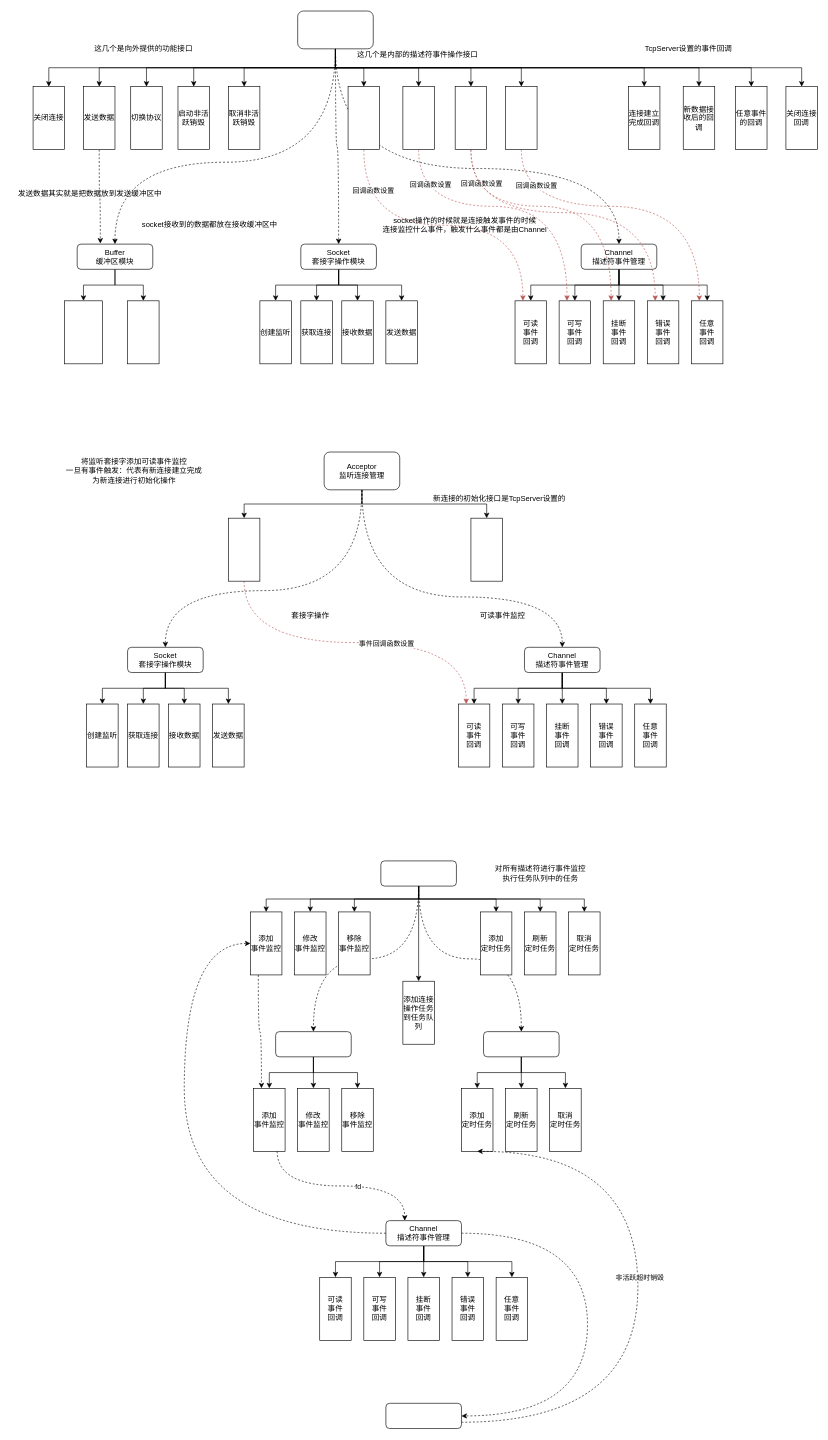
Image size: 828x1440. Some labels were removed from this diagram. Each missing label, with the centre of its shape:
Connection: (423,1416)
Connection 通信连接的管理: (335,29)
EventLoop: (418,873)
Poller 描述符事件监控: (313,1044)
TimerQueue 定时任务模块: (521,1044)
关闭套接字 解除事件监控: (471,118)
刷新活跃度: (521,118)
取出数据: (143,332)
放入数据: (83,332)
新连接 初始化 回调函数指针: (486,549)
获取 新连接: (244,549)
通过socket 发送数据: (418,118)
通过socket 接收数据: (363,118)
